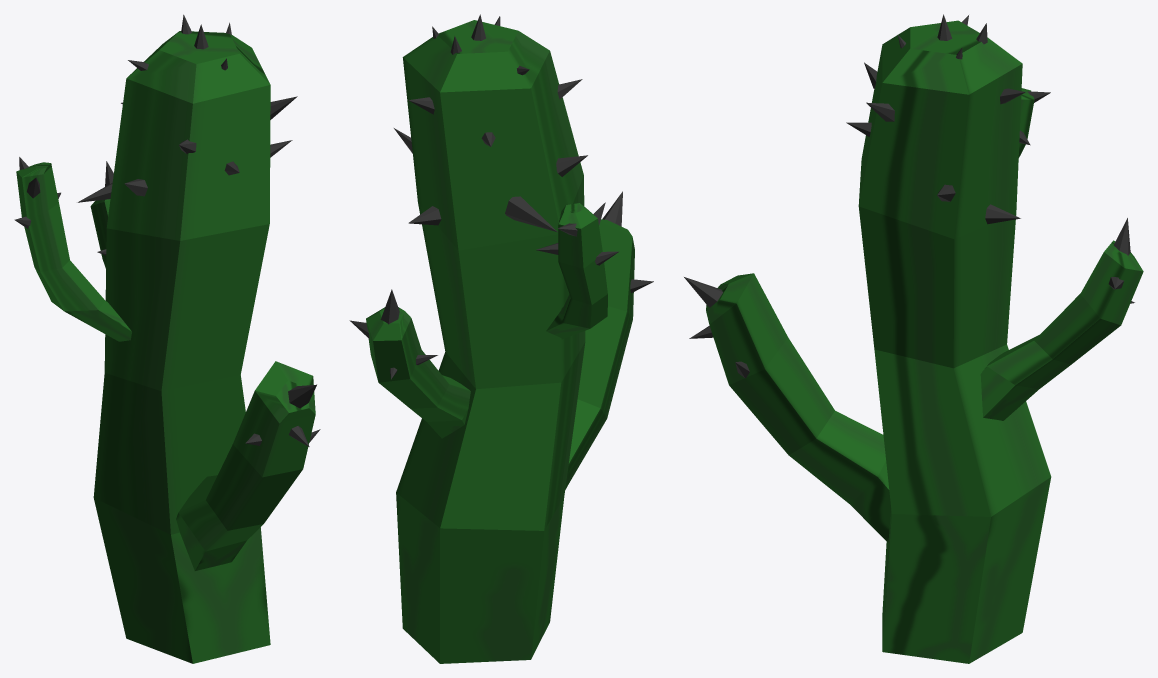
Rendered from Cactus.fbx.
3 views of the same model, side by side, from view 1: azimuth 30°, elevation 25°; view 2: azimuth 150°, elevation 25°; view 3: azimuth 270°, elevation 25° (orthographic). The views are drawn at different scales.
Visible parts, largest first — view 1: Cylinder.003, Cone.019; view 2: Cylinder.003, Cone.019; view 3: Cylinder.003, Cone.019.
Boxes of the visible parts, x1,y1,x2,y2 form: Cylinder.003: (16, 31, 315, 663); Cone.019: (14, 14, 320, 446); Cylinder.003: (366, 20, 634, 663); Cone.019: (349, 14, 653, 379); Cylinder.003: (706, 20, 1143, 663); Cone.019: (684, 14, 1134, 378).
Size of the model in its own units: 379 by 880 by 594.
Materials: 2 (2 with a texture image).
